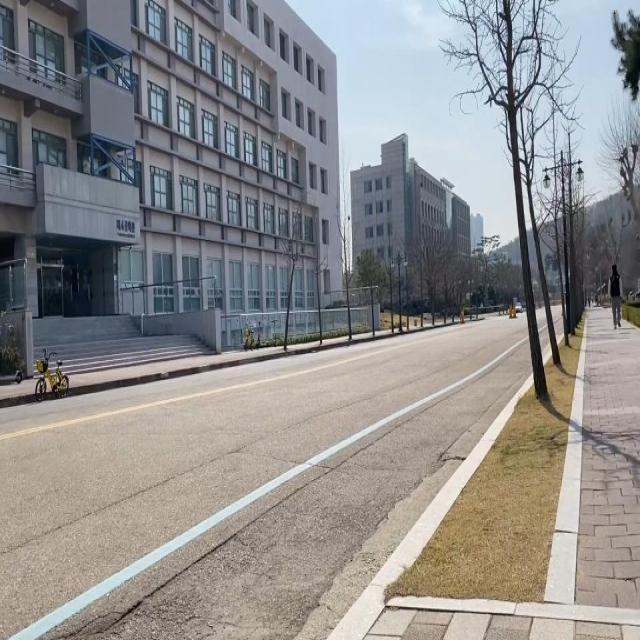sidewalk: (576, 308, 640, 609), (366, 607, 640, 640)
